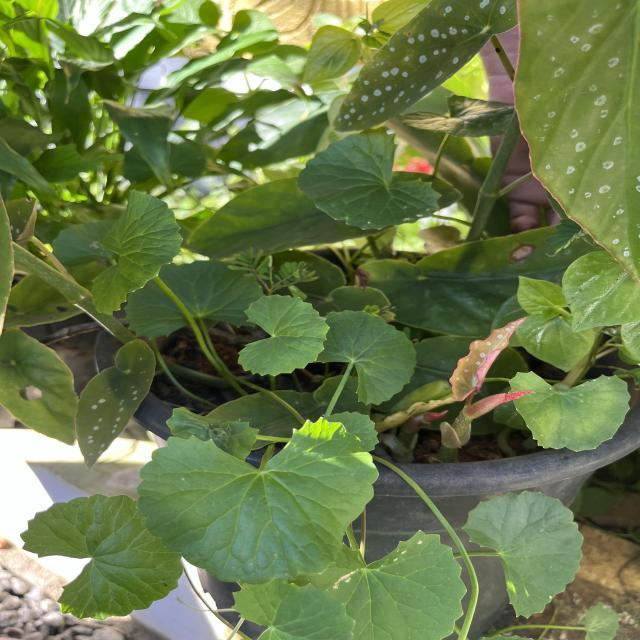Centella asiatica: (134, 413, 381, 587), (18, 492, 186, 622), (458, 487, 586, 621), (88, 186, 186, 318), (504, 368, 634, 453), (309, 308, 419, 407), (235, 292, 332, 379)
